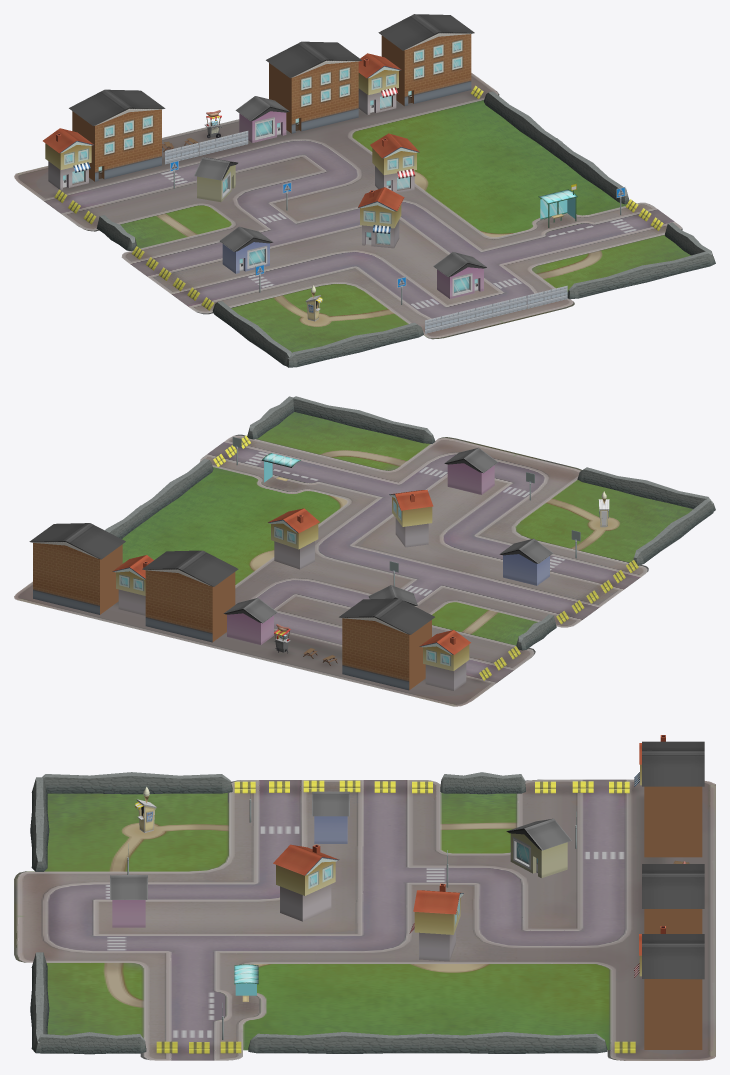
The model's file is stad_3.gltf.
3 views of the same model, one above another, from view 1: azimuth 30°, elevation 25°; view 2: azimuth 150°, elevation 25°; view 3: azimuth 270°, elevation 25° (orthographic). The views are drawn at different scales.
Parts seen in each view (by area): view 1: object_mark, obstacle_hus11, obstacle_hus13, obstacle_hus9, obstacle_stonewall7, obstacle_hus8, obstacle_hus6, obstacle_hus3, obstacle_stonewall3, obstacle_hus12, obstacle_hus5, obstacle_hus1 (+8 smaller); view 2: object_mark, obstacle_hus11, obstacle_hus13, obstacle_hus9, obstacle_hus8, obstacle_hus6, obstacle_stonewall7, obstacle_stonewall3, obstacle_hus3, obstacle_hus5, obstacle_hus1, obstacle_hus10 (+8 smaller); view 3: object_mark, obstacle_hus9, obstacle_hus13, obstacle_hus11, obstacle_hus3, obstacle_stonewall2, obstacle_stonewall4, obstacle_stonewall5, obstacle_hus6, obstacle_hus2, obstacle_stonewall6, obstacle_hus1 (+6 smaller).
Boxes of the visible parts, left/top/right/bottom form: object_mark: left=14, top=73, right=690, bottom=352; obstacle_hus11: left=266, top=41, right=361, bottom=133; obstacle_hus13: left=378, top=14, right=474, bottom=106; obstacle_hus9: left=69, top=89, right=165, bottom=181; obstacle_stonewall7: left=567, top=251, right=715, bottom=299; obstacle_hus8: left=43, top=128, right=93, bottom=189; obstacle_hus6: left=370, top=133, right=419, bottom=192; obstacle_hus3: left=358, top=187, right=404, bottom=248; obstacle_stonewall3: left=286, top=322, right=423, bottom=367; obstacle_hus12: left=358, top=53, right=401, bottom=114; obstacle_hus5: left=433, top=252, right=486, bottom=298; obstacle_hus1: left=219, top=226, right=273, bottom=273; object_mark: left=14, top=412, right=693, bottom=706; obstacle_hus11: left=142, top=550, right=238, bottom=642; obstacle_hus13: left=29, top=523, right=125, bottom=614; obstacle_hus9: left=339, top=598, right=434, bottom=690; obstacle_hus8: left=419, top=630, right=470, bottom=690; obstacle_hus6: left=268, top=508, right=319, bottom=569; obstacle_stonewall7: left=293, top=396, right=435, bottom=443; obstacle_stonewall3: left=577, top=467, right=715, bottom=511; obstacle_hus3: left=389, top=489, right=433, bottom=547; obstacle_hus5: left=444, top=447, right=498, bottom=494; obstacle_hus1: left=499, top=538, right=553, bottom=585; obstacle_hus10: left=223, top=598, right=277, bottom=644; object_mark: left=14, top=779, right=715, bottom=1060; obstacle_hus9: left=642, top=741, right=704, bottom=857; obstacle_hus13: left=642, top=934, right=704, bottom=1049; obstacle_hus11: left=642, top=864, right=704, bottom=933; obstacle_hus3: left=273, top=844, right=339, bottom=921; obstacle_stonewall2: left=42, top=772, right=232, bottom=794; obstacle_stonewall4: left=419, top=1032, right=607, bottom=1053; obstacle_stonewall5: left=248, top=1032, right=434, bottom=1053; obstacle_hus6: left=409, top=883, right=463, bottom=961; obstacle_hus2: left=506, top=818, right=571, bottom=878; obstacle_stonewall6: left=38, top=1032, right=146, bottom=1054; obstacle_hus1: left=312, top=791, right=349, bottom=843.
Size of the model in its own units: 0.6373 by 0.0906 by 0.6725.
Materials: 15 (15 with a texture image).
